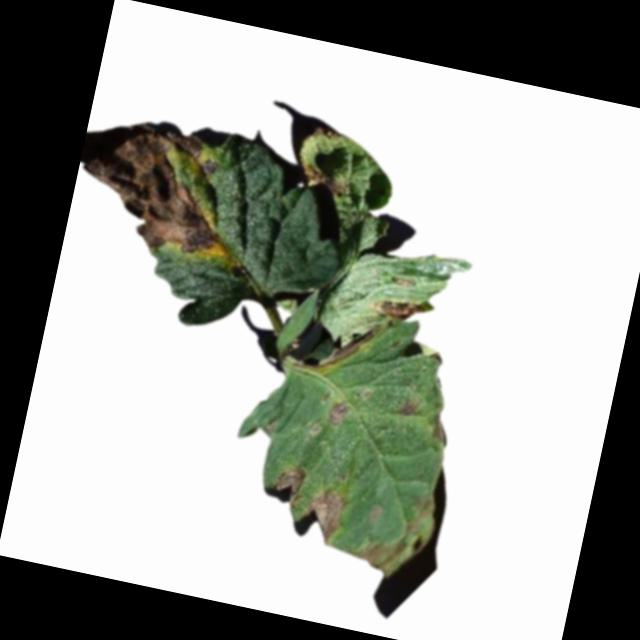Early_blight: (66, 114, 249, 264), (321, 317, 380, 375), (299, 484, 350, 548), (296, 159, 353, 197), (370, 292, 429, 325), (268, 461, 306, 507), (325, 399, 352, 428), (430, 411, 452, 446), (398, 397, 420, 417)
